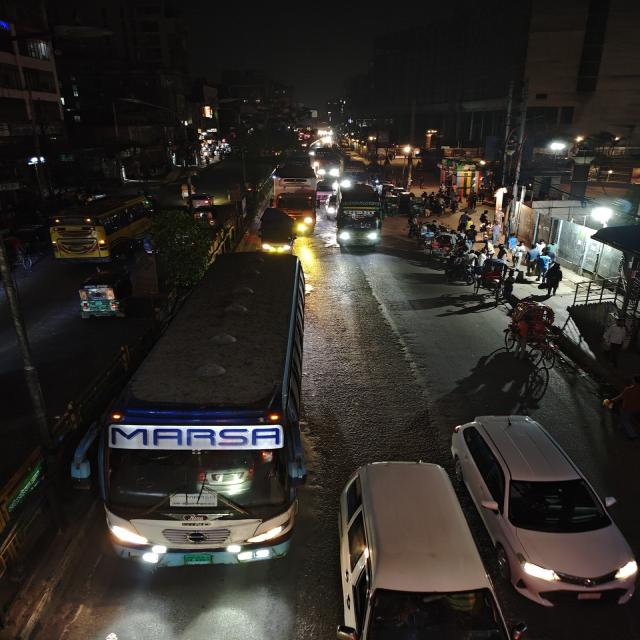bus: (99, 255, 312, 573), (45, 192, 159, 258), (332, 186, 384, 250), (314, 146, 341, 178)
car: (443, 410, 638, 610), (336, 457, 500, 639), (183, 191, 219, 209)
cng: (73, 270, 134, 321)
pedestrian: (539, 261, 564, 297), (496, 242, 511, 264)
pickup_van: (254, 207, 298, 255)
rickshaw: (499, 297, 561, 359), (473, 257, 517, 301), (426, 232, 459, 262), (443, 252, 473, 285)
truck: (275, 166, 321, 231)
